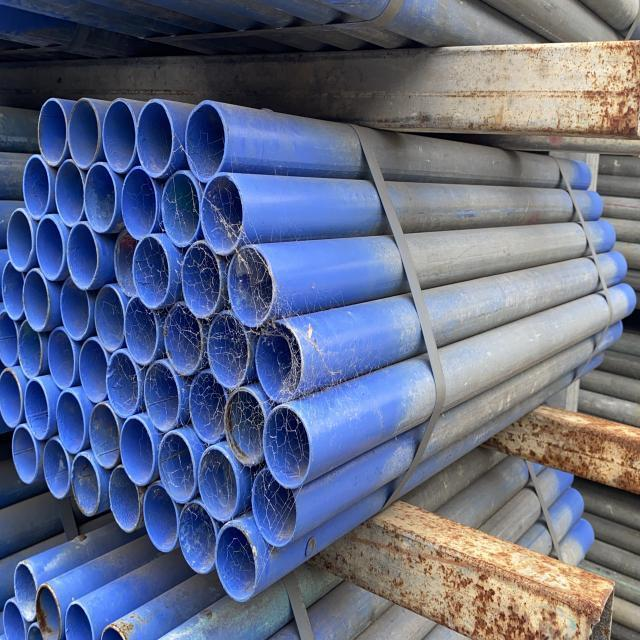pipe: (251, 320, 301, 406), (263, 404, 311, 488), (250, 463, 298, 546), (206, 314, 255, 395), (159, 303, 206, 385), (227, 248, 273, 331), (221, 389, 266, 469), (189, 357, 229, 447), (184, 100, 226, 185), (176, 498, 220, 579), (141, 467, 181, 556), (197, 446, 243, 523), (140, 362, 188, 434), (200, 176, 243, 256), (215, 523, 259, 601), (121, 165, 164, 244), (135, 99, 175, 183), (109, 454, 149, 536), (129, 234, 171, 310), (160, 173, 201, 250), (182, 245, 223, 322), (102, 97, 139, 181), (119, 417, 160, 490), (160, 431, 198, 509), (124, 297, 164, 371), (83, 156, 118, 235), (105, 351, 143, 423), (59, 266, 92, 348), (87, 400, 123, 473), (39, 433, 76, 503), (56, 150, 86, 236), (93, 285, 127, 358), (66, 221, 100, 290), (80, 336, 109, 415), (71, 451, 105, 518), (45, 327, 79, 392), (23, 263, 53, 336), (63, 103, 96, 169), (38, 97, 69, 167), (57, 388, 89, 454), (22, 155, 51, 220), (25, 377, 54, 442), (114, 230, 138, 305), (34, 218, 63, 280), (14, 319, 43, 381), (11, 427, 40, 488), (36, 580, 64, 640), (8, 206, 33, 269), (0, 367, 23, 433), (14, 563, 38, 625), (4, 264, 26, 323), (65, 597, 90, 640), (0, 303, 15, 365), (3, 597, 24, 640)
